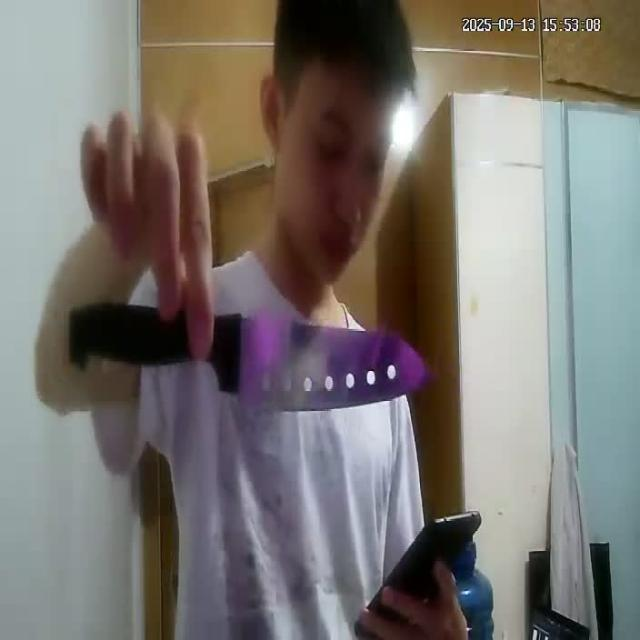senjata_tajam: (62, 300, 434, 411)
